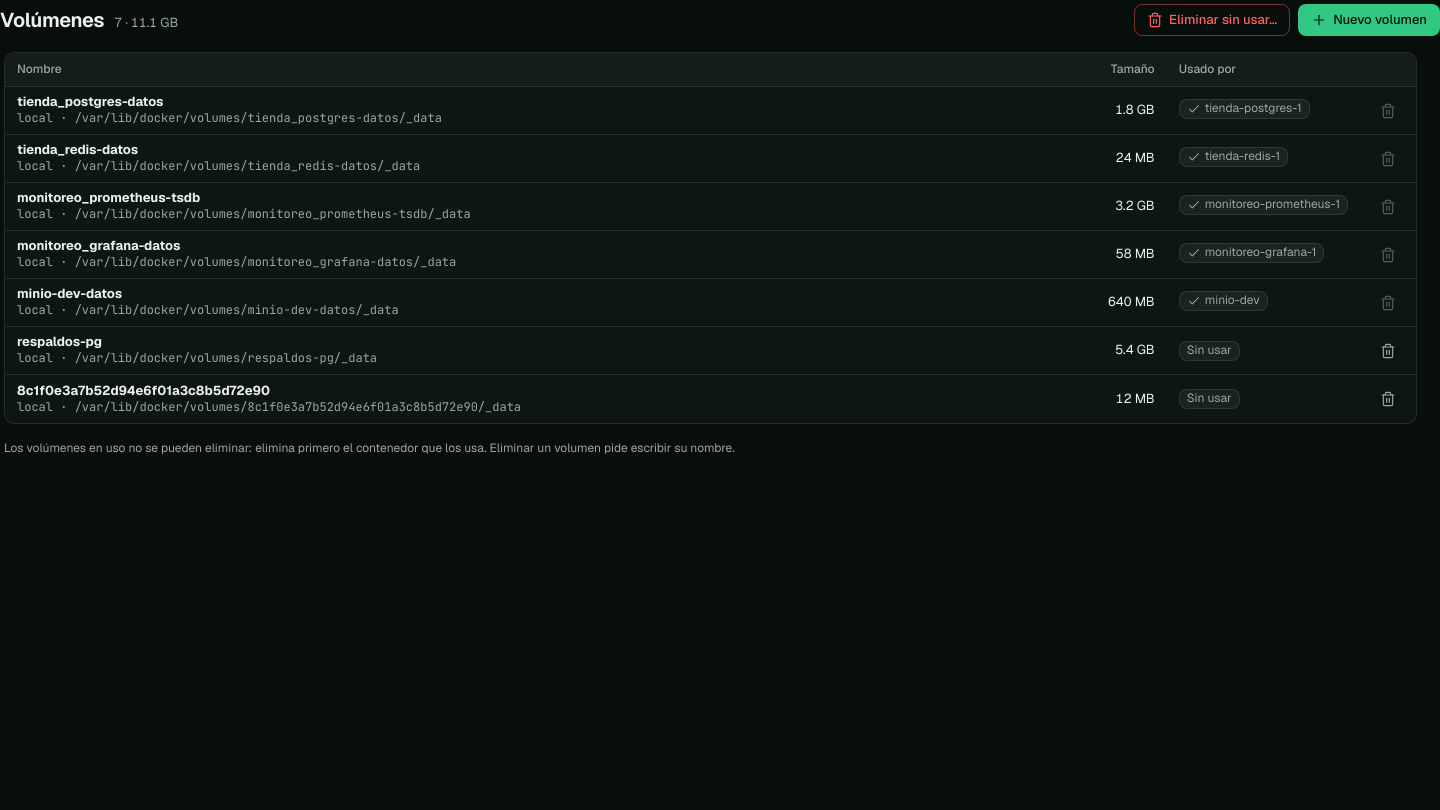
Test case: VolumesPage › eliminar volumen exige escribir el nombre (botón deshabilitado hasta coincidir)
The width and height of the screenshot is (1440, 810).
Click the button named "Eliminar volumen respaldos-pg" at coordinates (1388, 350), box [1372,334,1404,366]
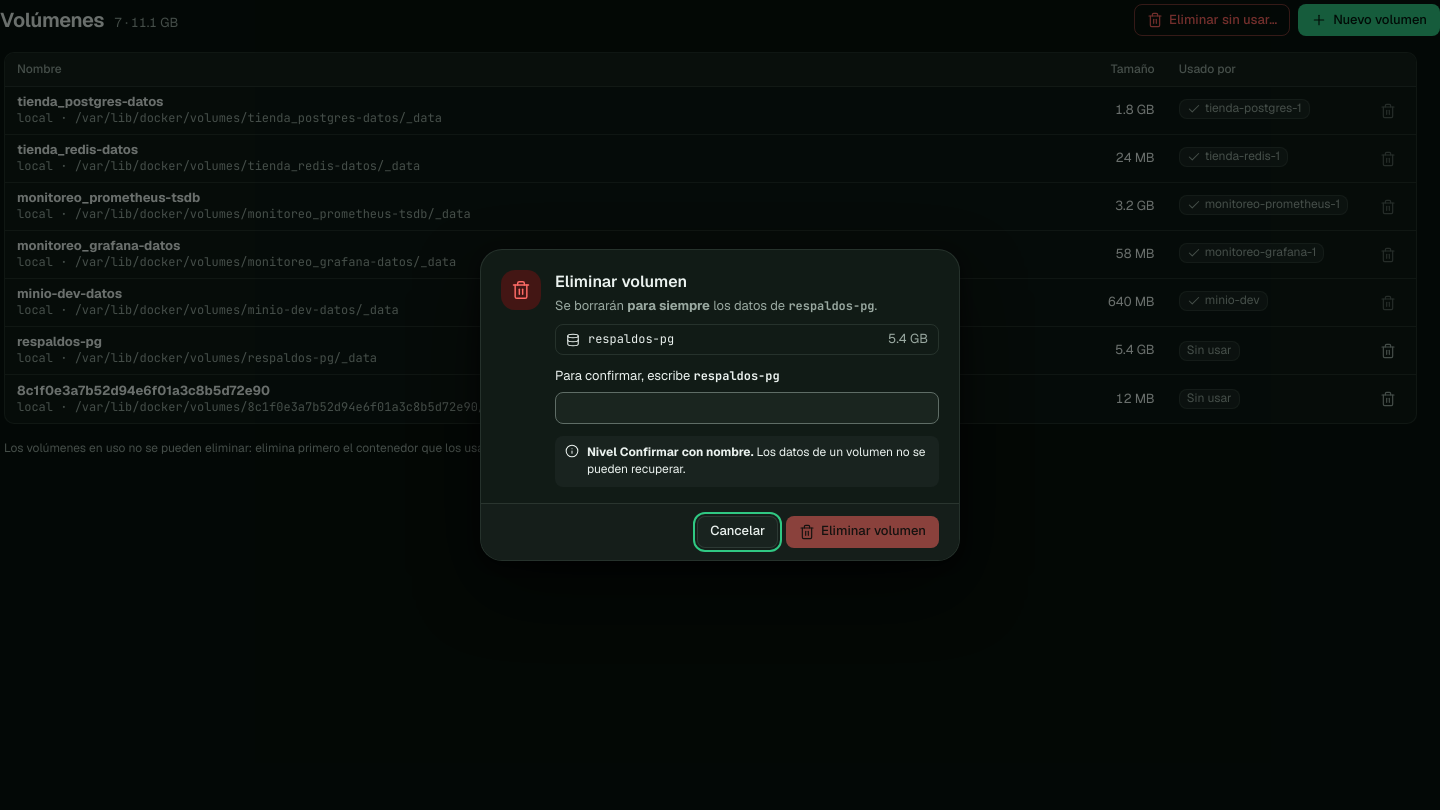
Expected: the button "Eliminar volumen" is disabled, [786,516,939,548]
Type "respaldos" into the field at coordinates (747, 408), box [555,392,939,424]
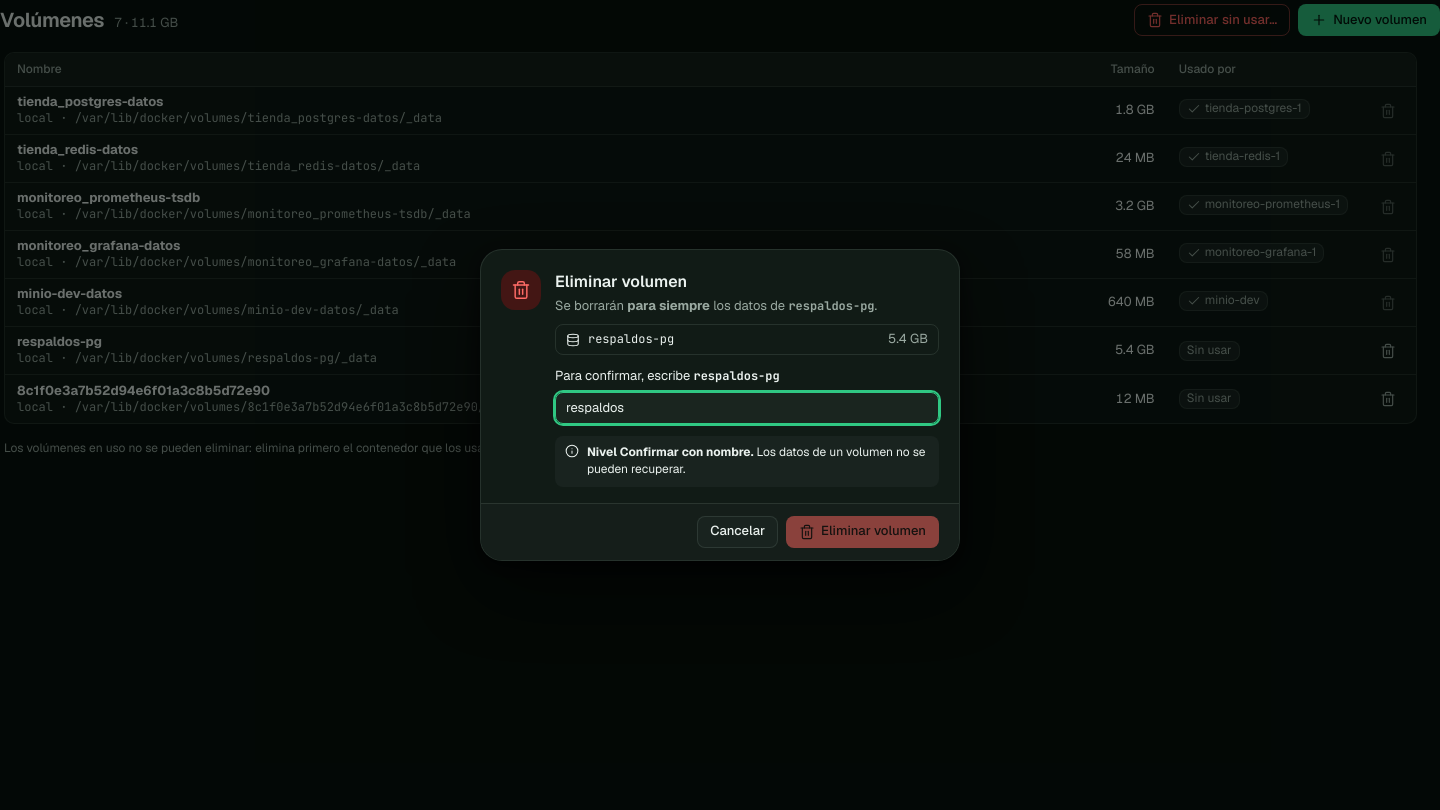
Expected: the button "Eliminar volumen" is disabled, [786,516,939,548]
Type "-pg" into the field at coordinates (747, 408), box [555,392,939,424]
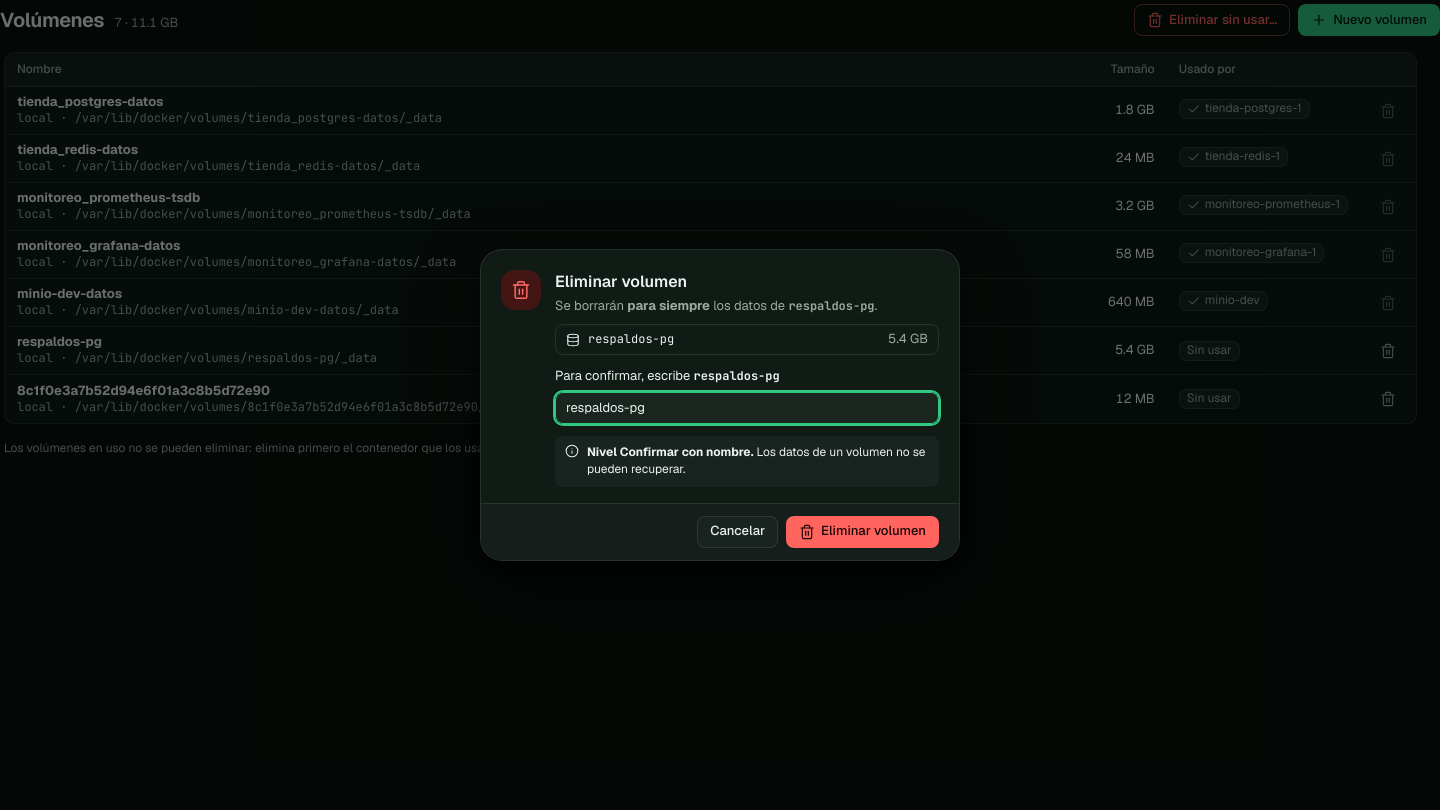
Expected: the button "Eliminar volumen" is enabled
Click the button "Eliminar volumen" at coordinates (863, 532), box [786,516,939,548]
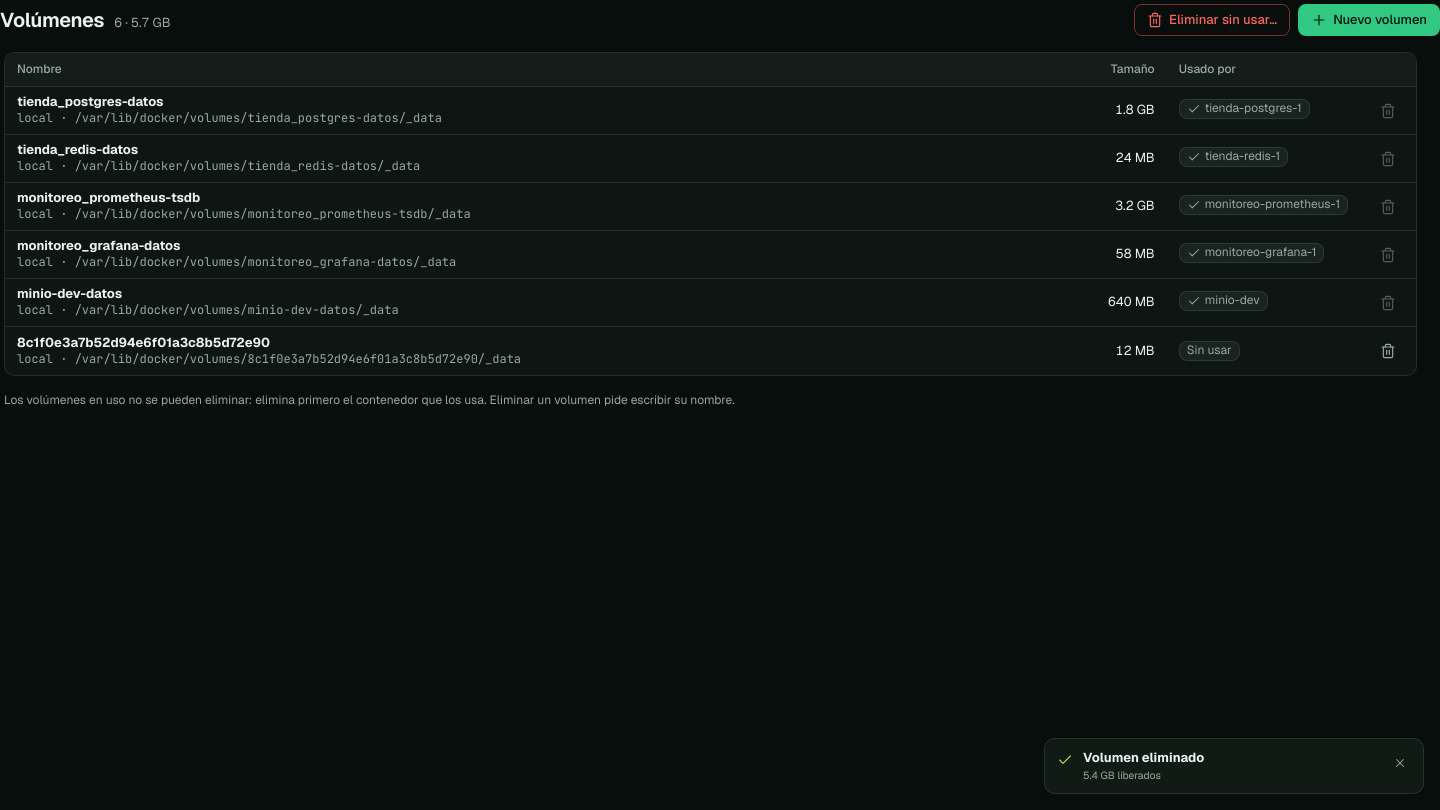
Expected: the text "respaldos-pg" is gone
Expected: the text "Volumen eliminado" is shown, [1083,749,1204,766]
